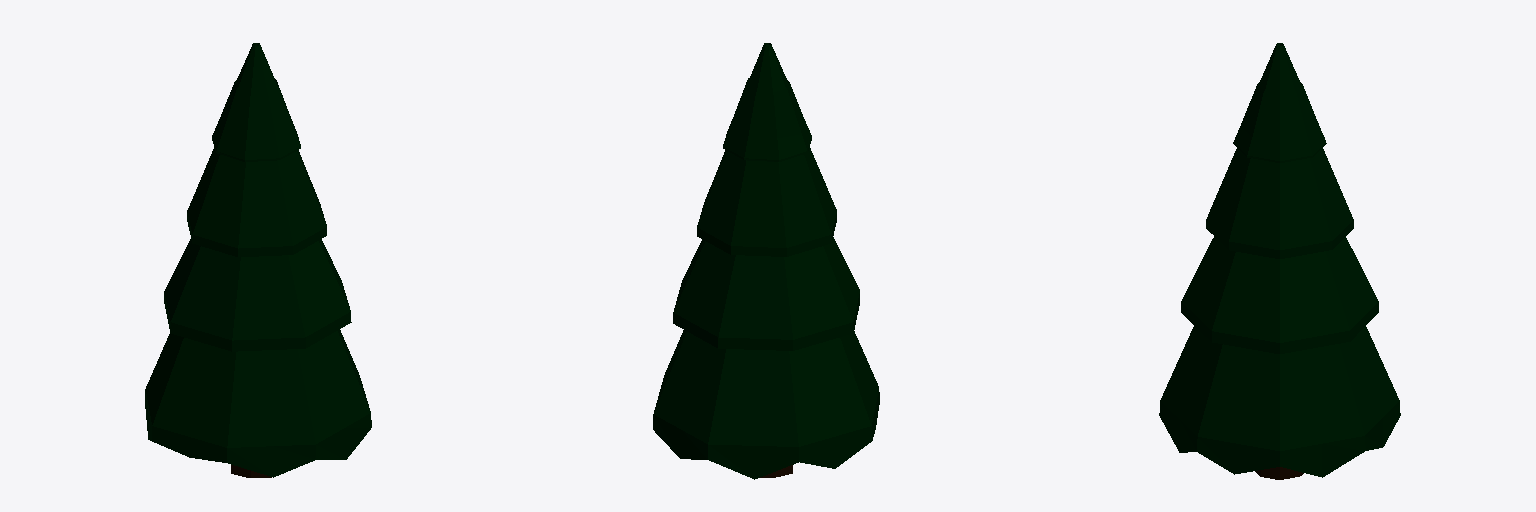
The model's file is pineTree.obj.
3 renders of one model, left to right at view 1: azimuth 30°, elevation 25°; view 2: azimuth 150°, elevation 25°; view 3: azimuth 270°, elevation 25°, orthographic.
Parts seen in each view (by area): view 1: Cube; view 2: Cube; view 3: Cube.
Boxes of the visible parts, x1,y1,x2,y2 form: Cube: [145, 43, 371, 477]; Cube: [653, 43, 879, 479]; Cube: [1159, 43, 1400, 479].
Size of the model in its own units: 3.63 by 7.02 by 3.63.